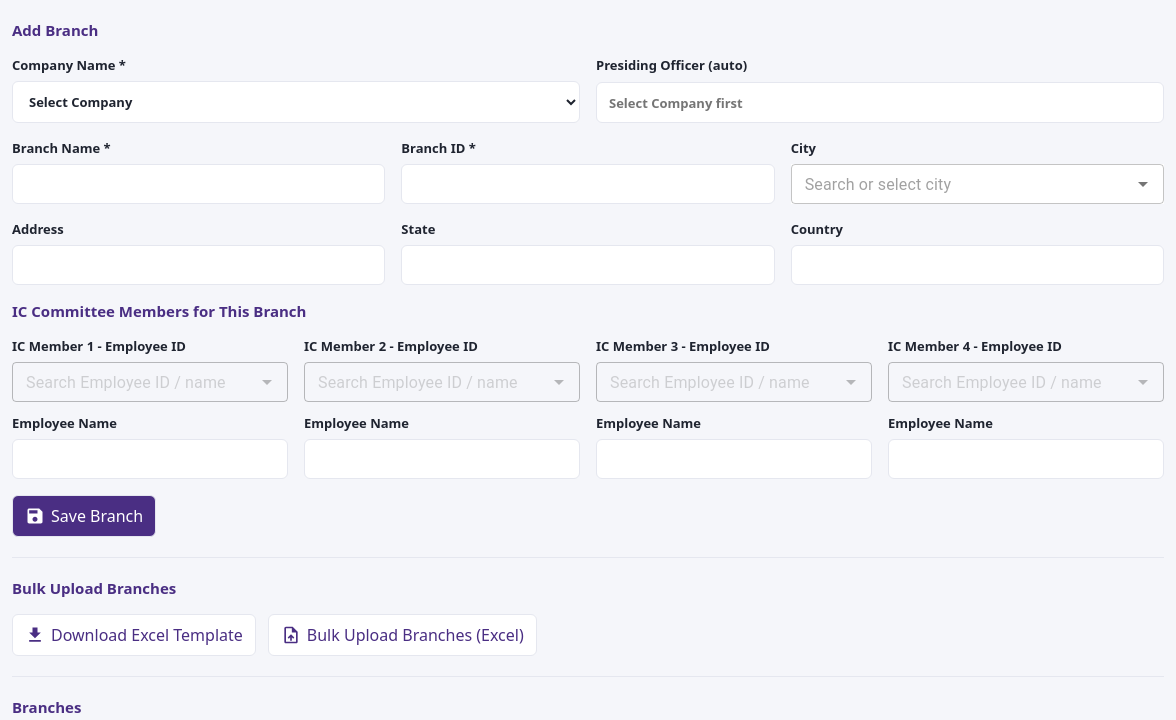
Test case: changing company resets IC selections and updates the automatic officer
Select "Alpha" in the dropdown labelled "Company Name *". click: (296, 102)
box: [12,81,580,123]
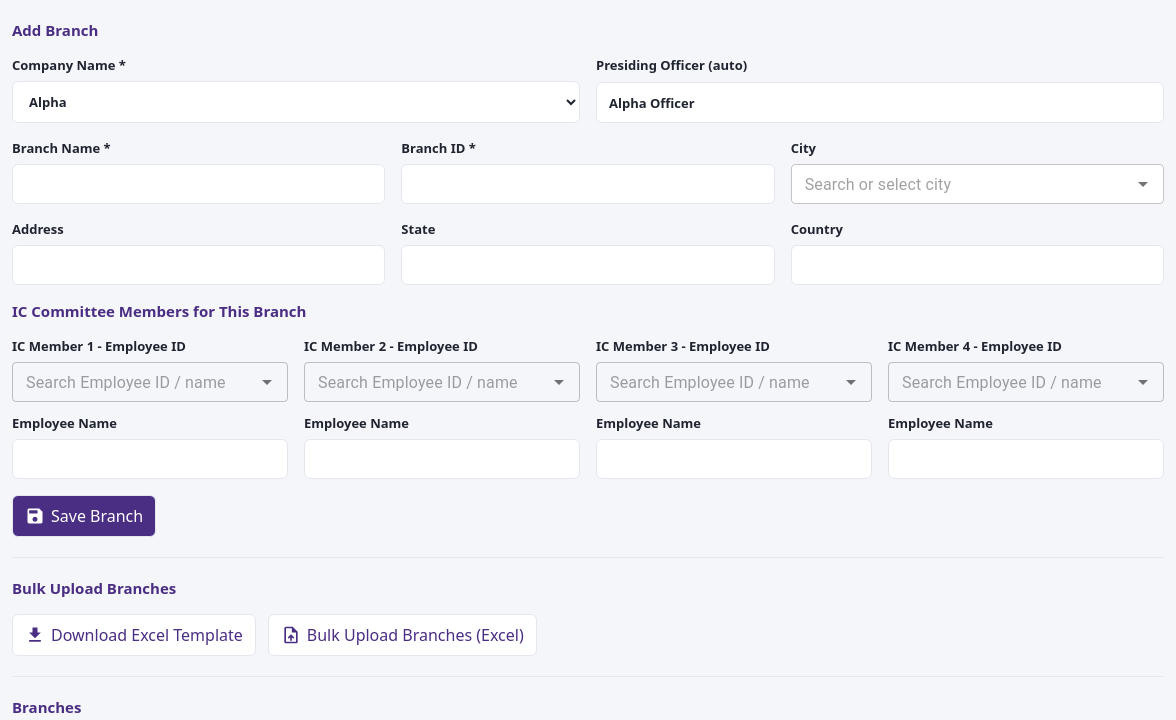
Check: the field labelled "Presiding Officer (auto)" holds "Alpha Officer", box [596,82,1164,123]
Press the mouse on the dropdown labelled "IC Member 1 - Employee ID" at (134, 382), box [18,368,249,396]
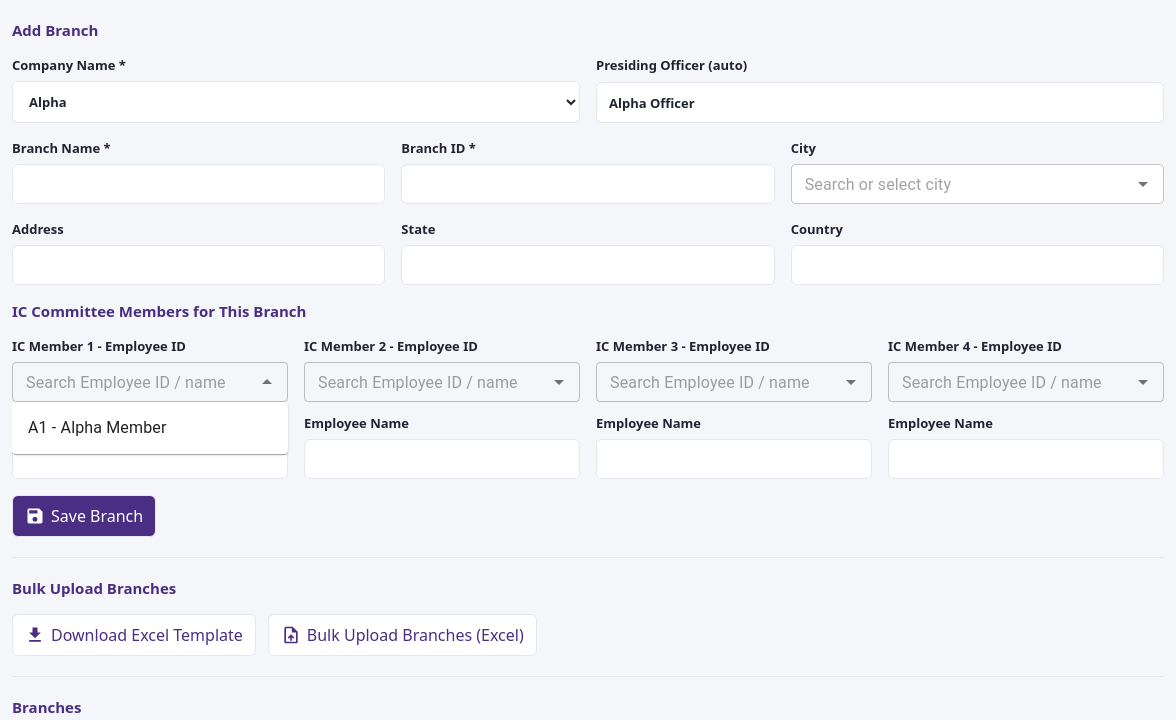
Click the option "A1 - Alpha Member". click: (97, 428)
box: [28,418,166,437]
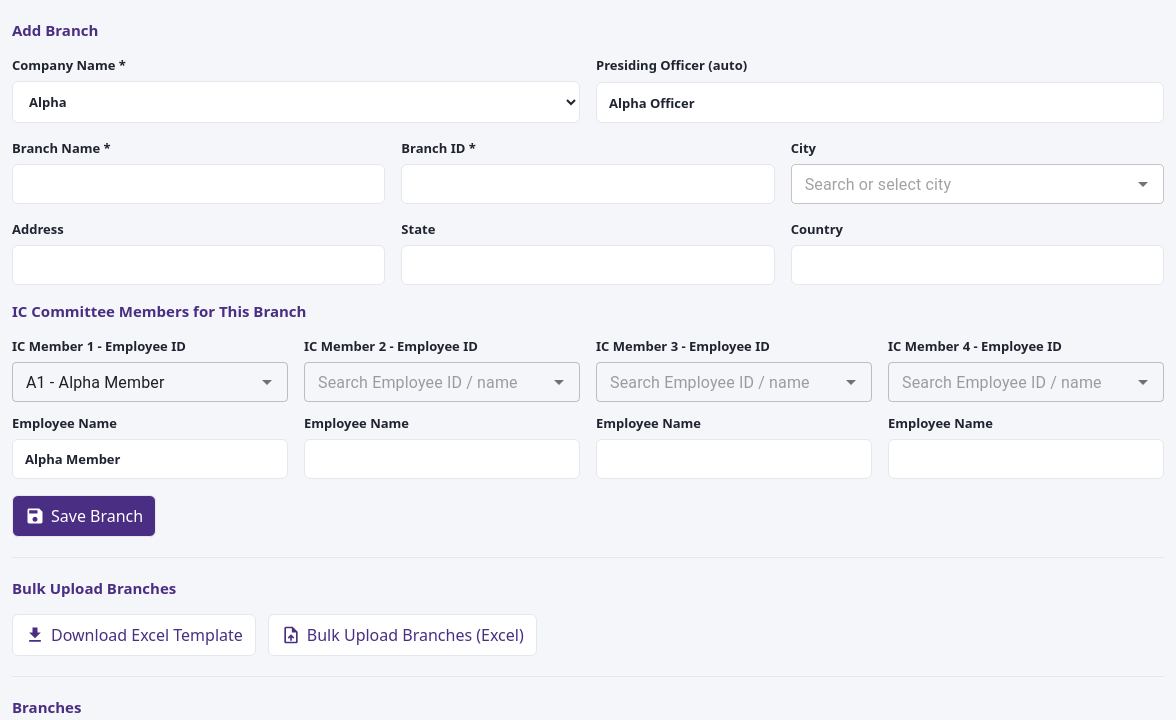
Check: the 1st field labelled "Employee Name" holds "Alpha Member", box [12,439,288,479]
Select "Beta" in the dropdown labelled "Company Name *". click: (296, 102)
box: [12,81,580,123]
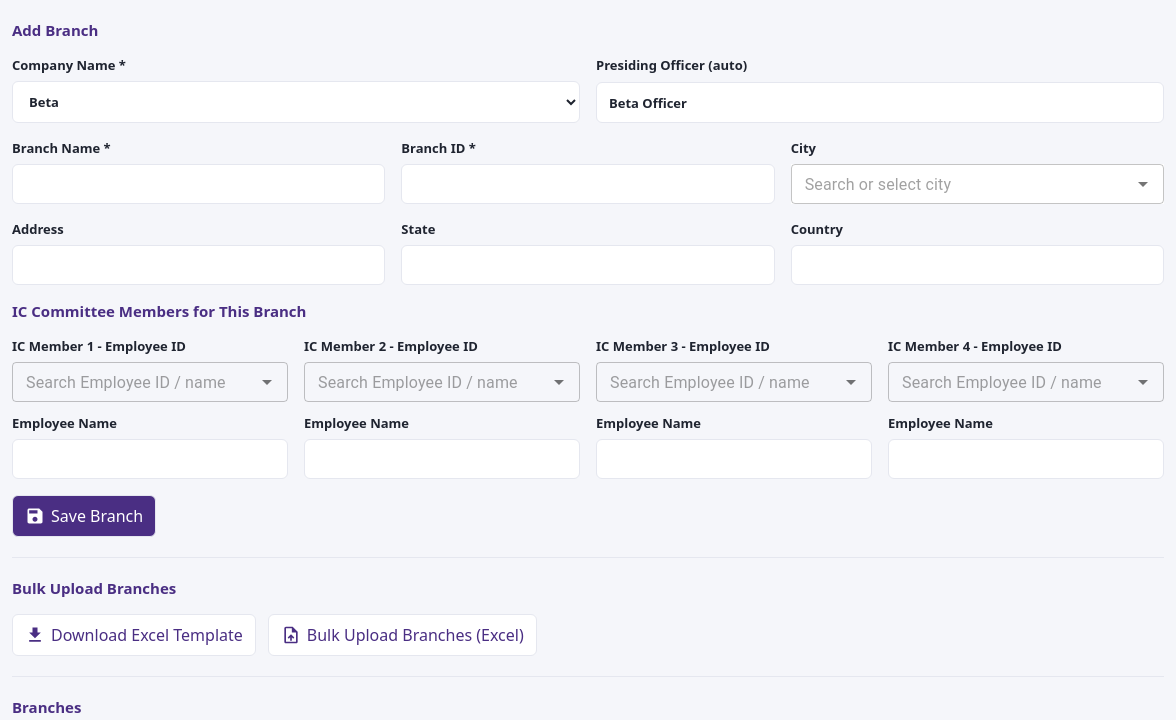
Check: the field labelled "Presiding Officer (auto)" holds "Beta Officer", box [596,82,1164,123]
Check: the 1st field labelled "Employee Name" is empty, box [12,439,288,479]
Press the mouse on the dropdown labelled "IC Member 1 - Employee ID" at (134, 382), box [18,368,249,396]
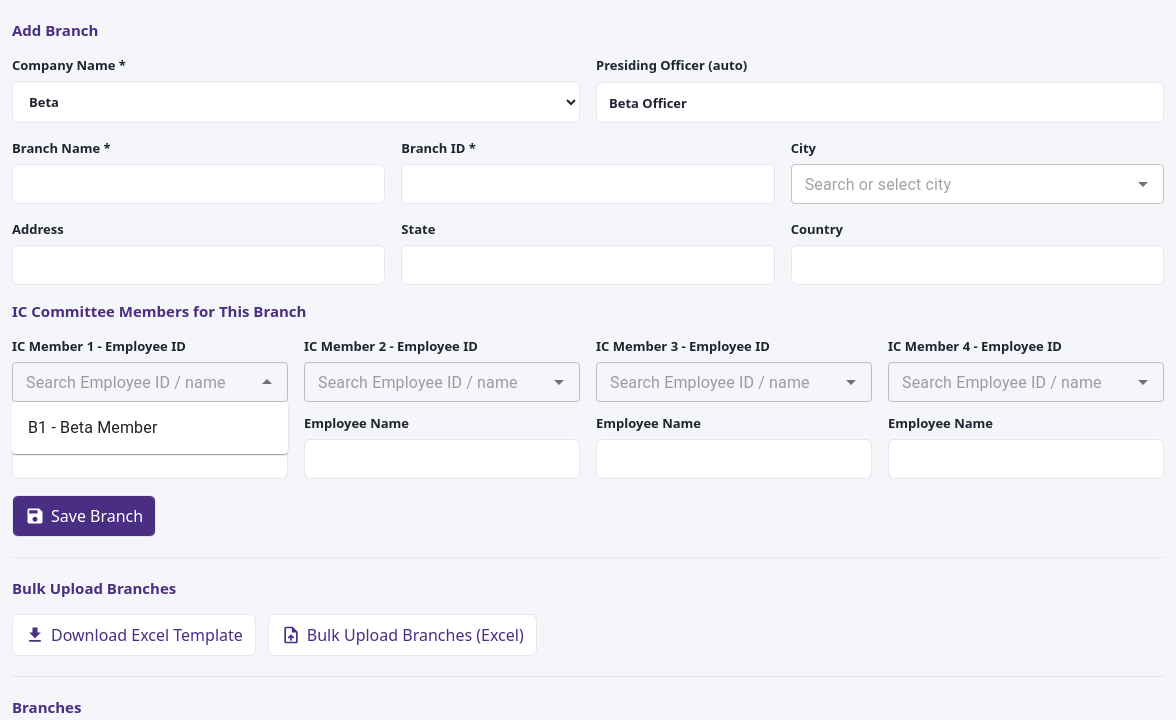
Check: the option "A1 - Alpha Member" is not shown
Check: the option "B1 - Beta Member" is shown, box [28,418,158,437]
